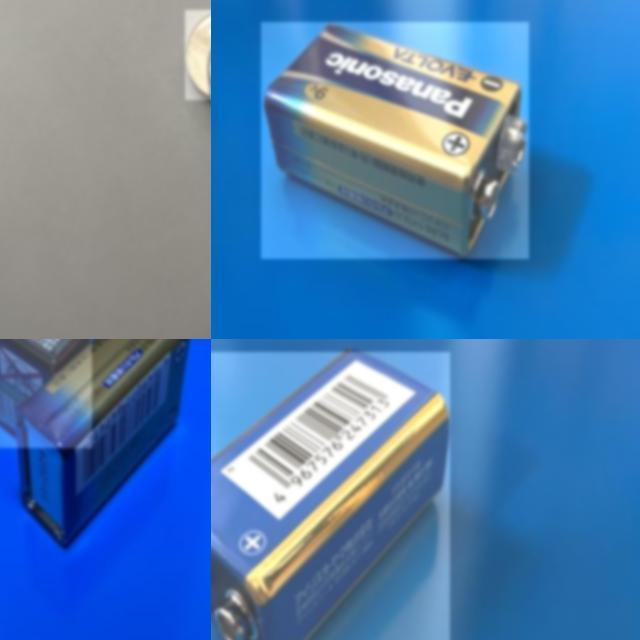9V: (211, 352, 450, 640), (261, 22, 529, 259), (15, 339, 192, 548), (0, 339, 92, 448)
